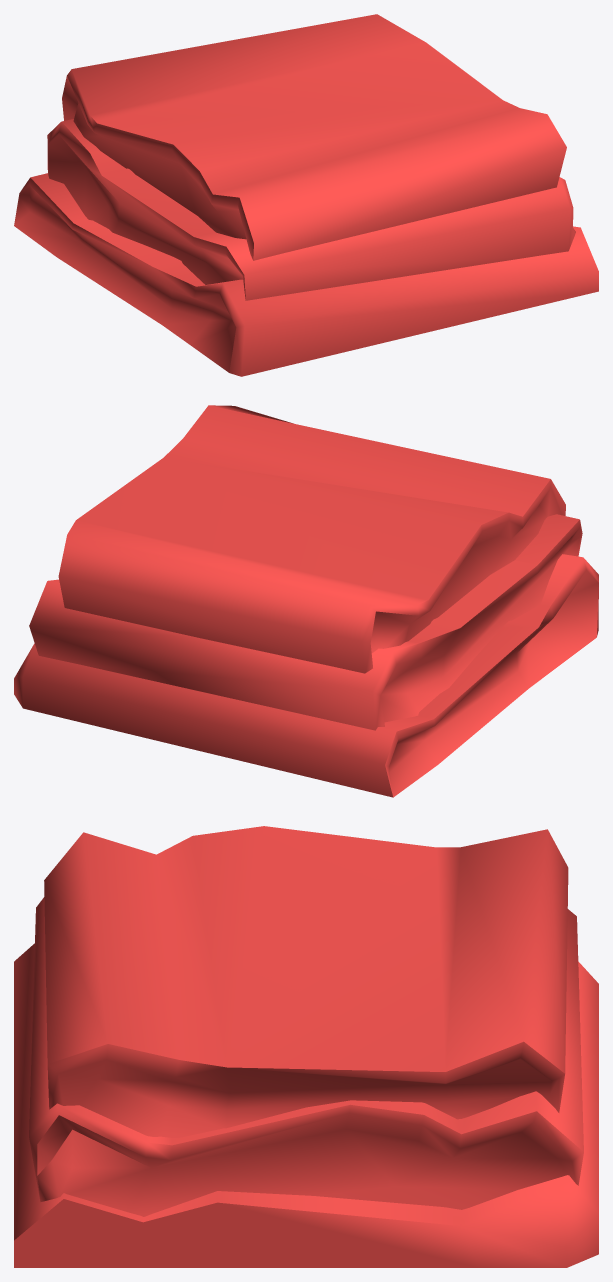
The model's file is clothes_023.glb.
The picture shows the model from 3 angles, top to bottom: view 1: azimuth 30°, elevation 25°; view 2: azimuth 150°, elevation 25°; view 3: azimuth 270°, elevation 25°; orthographic projection. The views are drawn at different scales.
Visible parts, largest first — view 1: clothes_023; view 2: clothes_023; view 3: clothes_023.
Part boxes in pixels (x1,y1,x2,y2): clothes_023: (14,14,598,376); clothes_023: (14,405,598,797); clothes_023: (14,826,598,1267).
Bounding box in the file's own units: 0.383 × 0.1588 × 0.383.
Materials: 1 (1 with a texture image).
